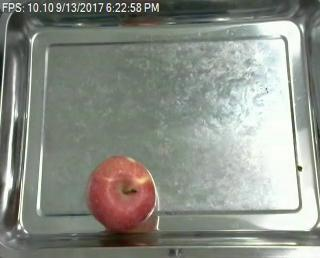apple: (85, 155, 155, 231)
